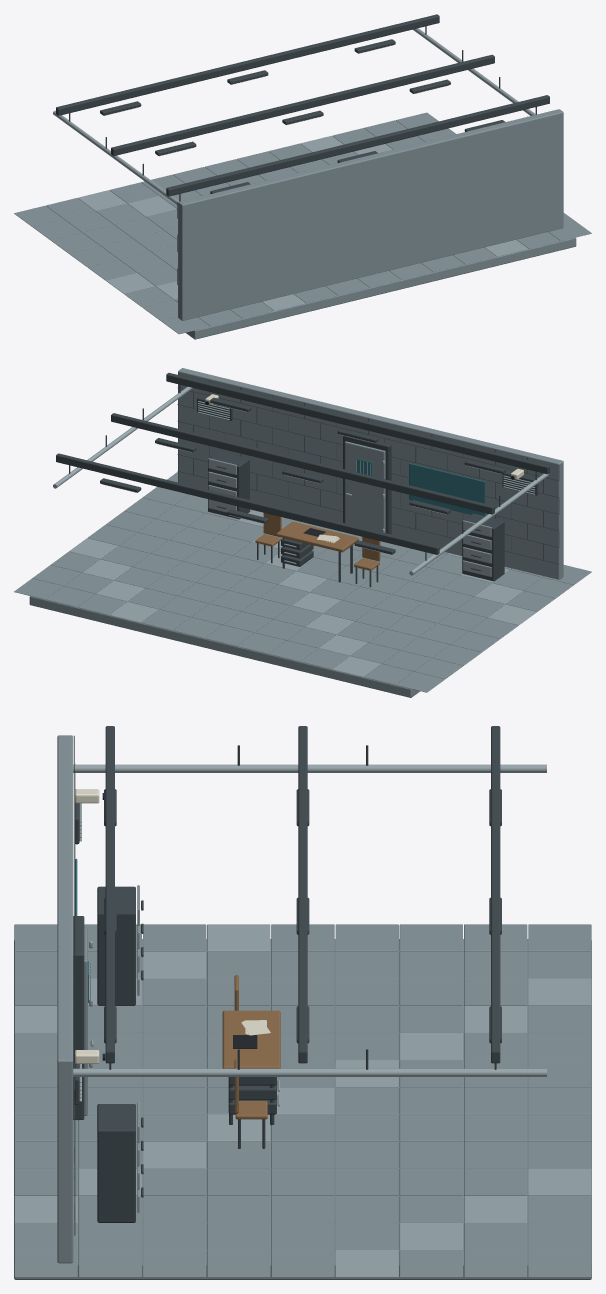
Rendered from interrogation.glb.
The picture shows the model from 3 angles, top to bottom: view 1: azimuth 30°, elevation 25°; view 2: azimuth 150°, elevation 25°; view 3: azimuth 270°, elevation 25°; orthographic projection. The views are drawn at different scales.
Parts seen in each view (by area): view 1: interrogation-blue painted masonry, interrogation-forged graphite steel, interrogation-galvanized edges; view 2: interrogation-blue painted masonry, interrogation-forged graphite steel, interrogation-galvanized edges, interrogation-monitor glass, interrogation-worn oak; view 3: interrogation-blue painted masonry, interrogation-galvanized edges, interrogation-forged graphite steel, interrogation-worn oak, interrogation-aged paper.
Part boxes in pixels (x1,y1,x2,y2): interrogation-blue painted masonry: [14, 109, 591, 339]; interrogation-forged graphite steel: [56, 14, 549, 301]; interrogation-galvanized edges: [53, 28, 535, 310]; interrogation-blue painted masonry: [14, 368, 591, 697]; interrogation-forged graphite steel: [56, 373, 559, 587]; interrogation-galvanized edges: [53, 386, 548, 677]; interrogation-monitor glass: [356, 458, 485, 516]; interrogation-worn oak: [255, 513, 380, 570]; interrogation-blue painted masonry: [14, 735, 591, 1279]; interrogation-galvanized edges: [14, 764, 591, 1277]; interrogation-forged graphite steel: [73, 726, 501, 1235]; interrogation-worn oak: [222, 975, 280, 1119]; interrogation-aged paper: [75, 789, 270, 1063].
Bounding box in the file's own units: 12.99 × 3.94 × 9.
